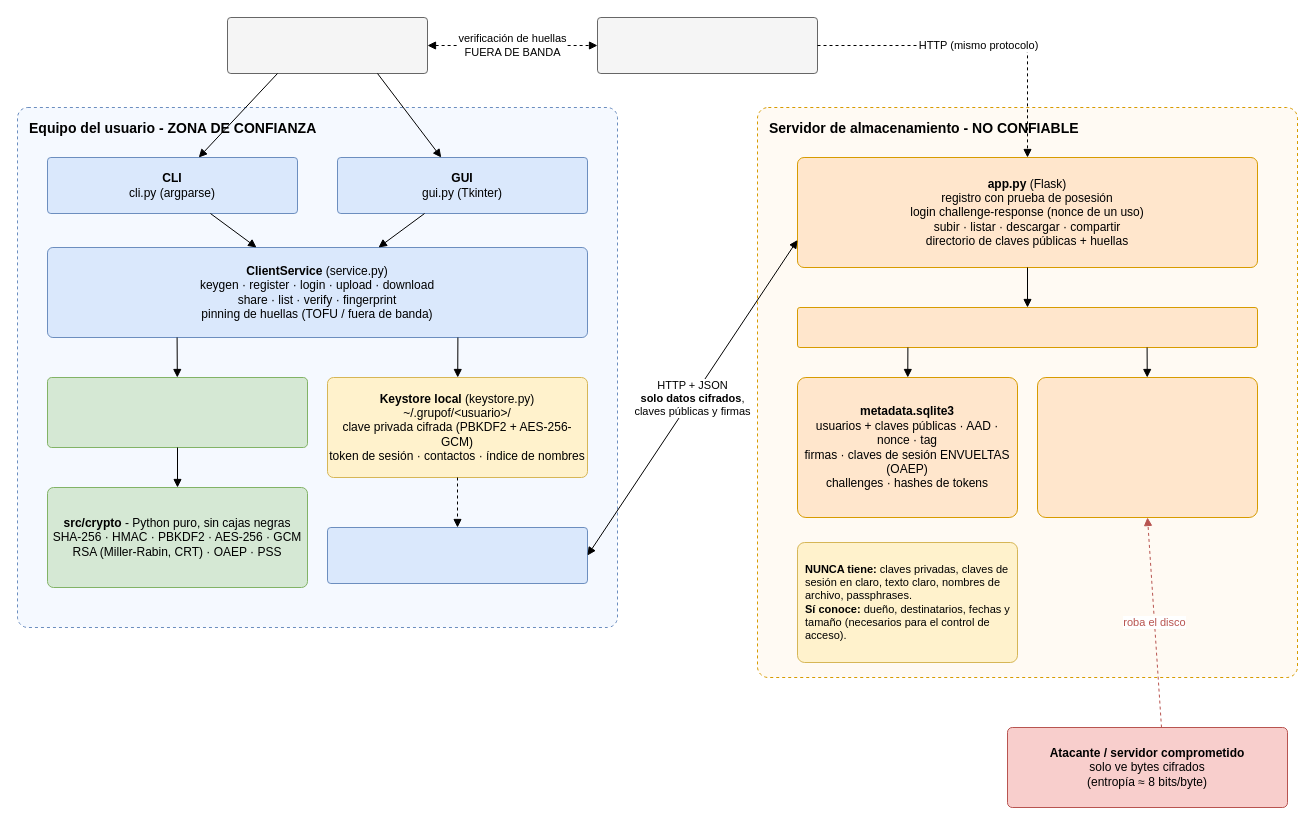
Image size: 1315x825. Some labels were removed from this diagram. The centre of each missing label's shape, as x and y in pixels:
"alice (usuaria) comandos + passphrase" belongs at (x=327, y=45).
"api_client.py (requests)" belongs at (x=457, y=555).
"blobs/*.bin ciphertext AES-256-GCM (nombre real cifrado dentro)" belongs at (x=1147, y=447).
"bob (otro usuario) su propio cliente y keystore" belongs at (x=707, y=45).
"envelope.py - cifrado híbrido sellar · abrir · verificar · re-envolver" belongs at (x=177, y=412).
"storage.py" belongs at (x=1027, y=327).
